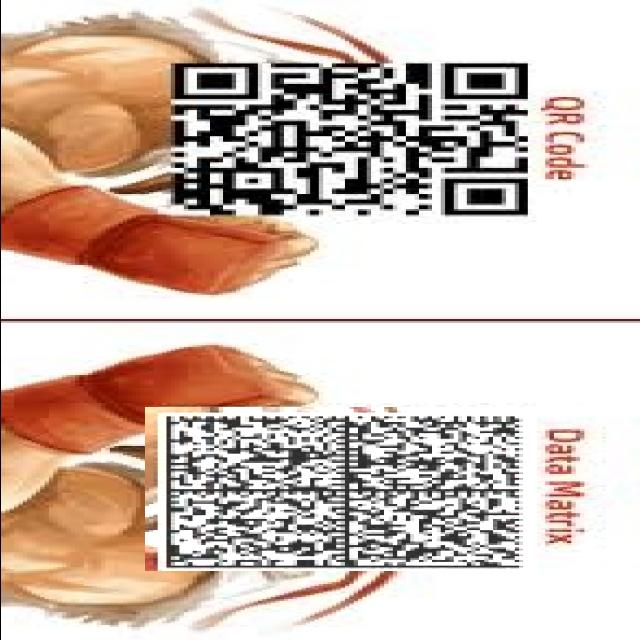DataMatrix: (144, 407, 536, 571)
